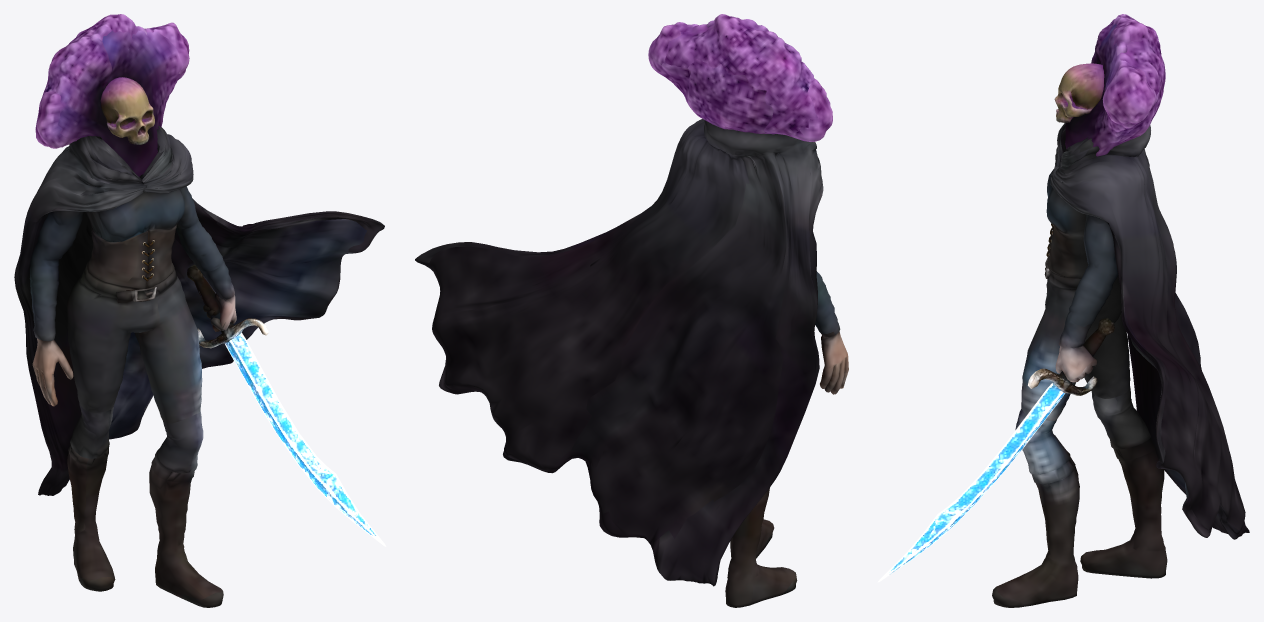
Rendered from MZ4250 - Champion of Desolation.glb.
3 views of the same model, side by side, from view 1: azimuth 30°, elevation 25°; view 2: azimuth 150°, elevation 25°; view 3: azimuth 270°, elevation 25° (orthographic). The views are drawn at different scales.
Visible parts, largest first — view 1: Base.001; view 2: Base.001; view 3: Base.001.
Boxes of the visible parts, <box> form: Base.001: <box>14,14,386,607</box>; Base.001: <box>415,14,848,607</box>; Base.001: <box>877,14,1249,607</box>.
Bounding box in the file's own units: 27.32 × 37.9 × 22.74.
Materials: 6 (6 with a texture image).
